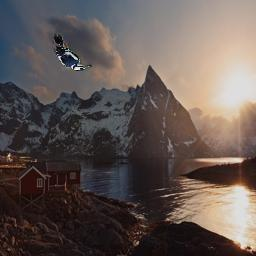Woodpecker: (52, 33, 92, 71)
